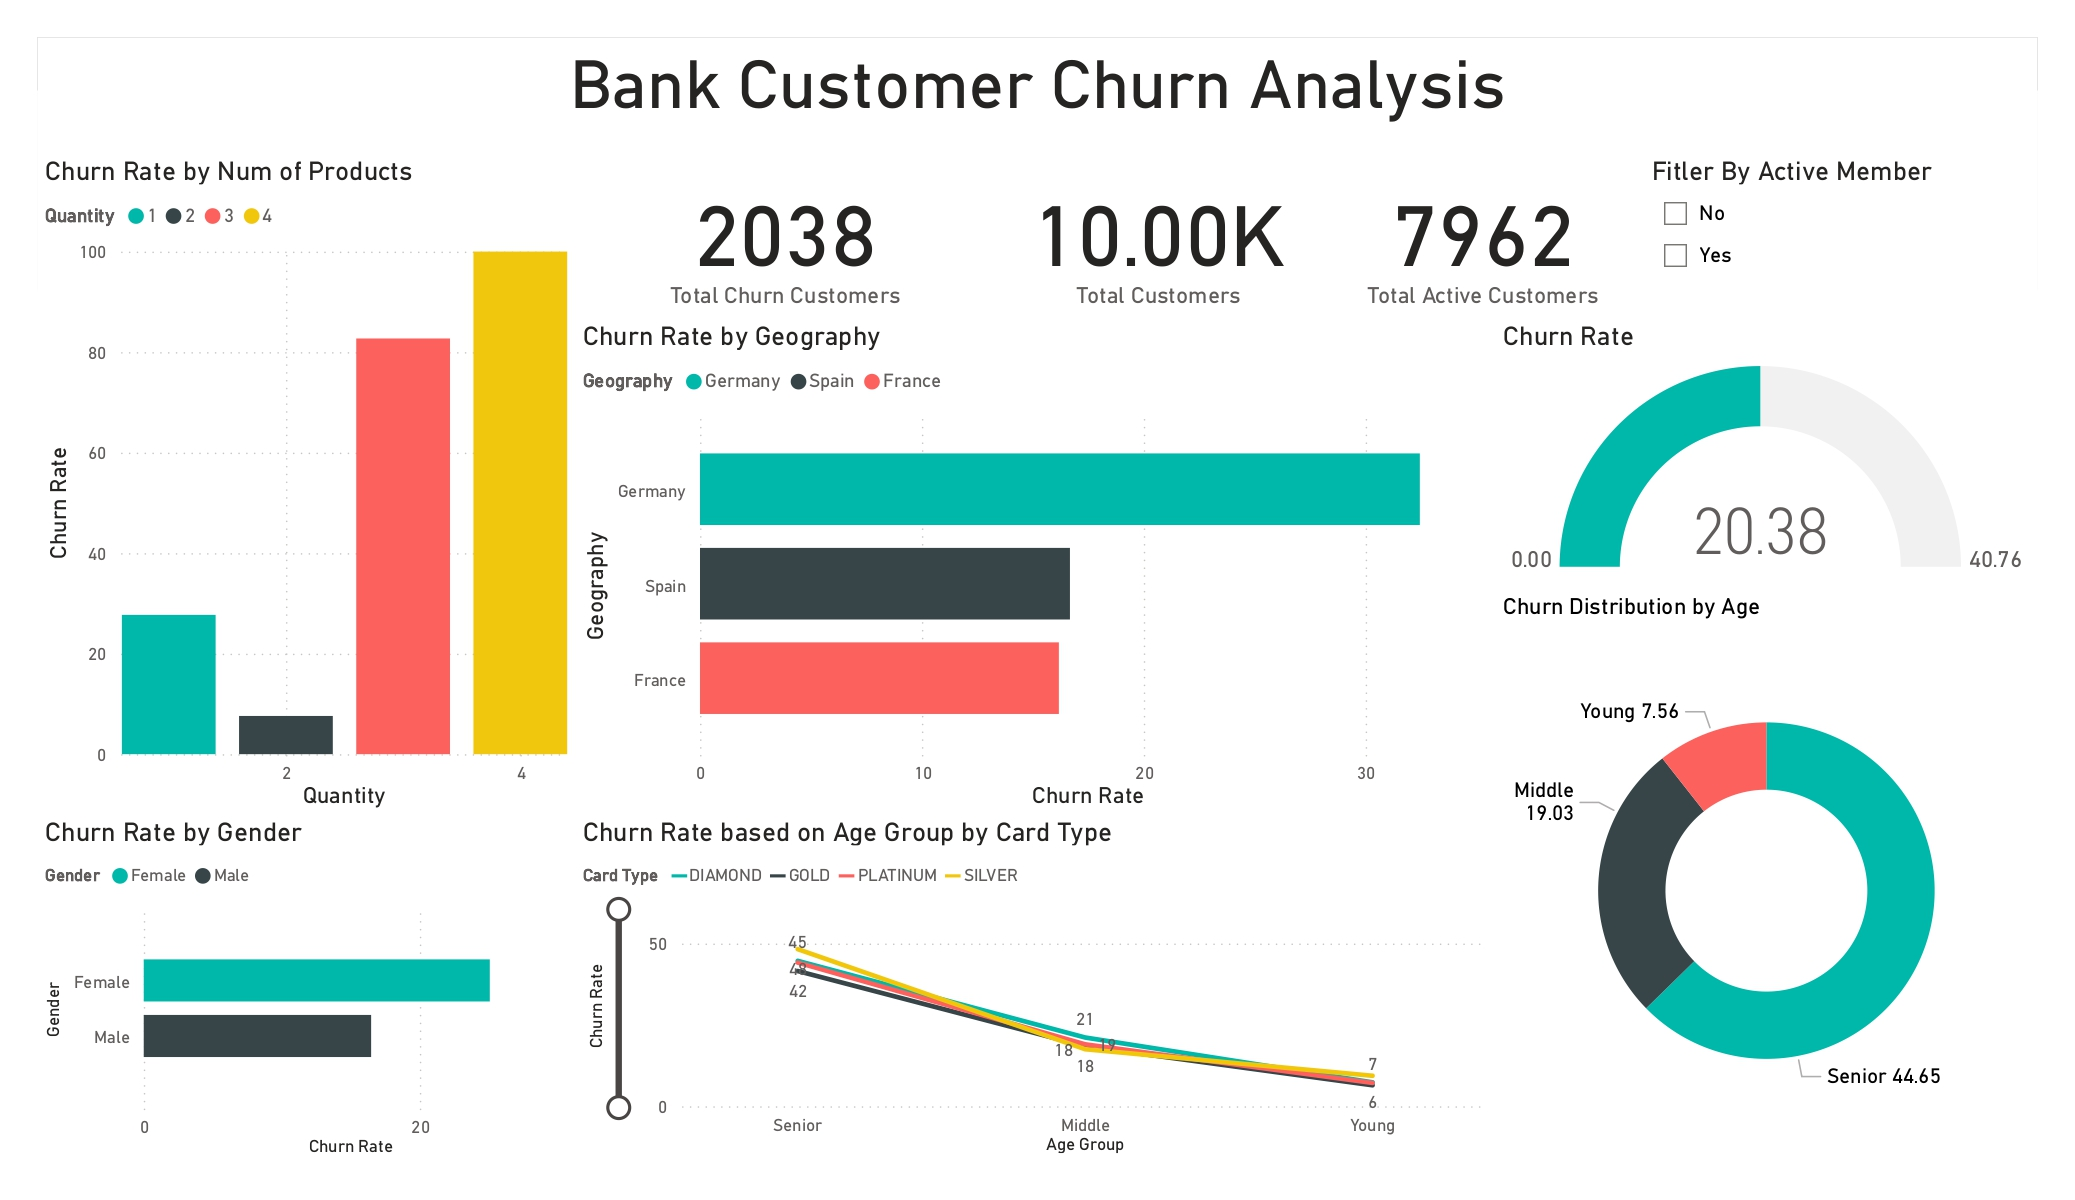

Layout of this report page (visuals, bound fields, positions):
{"tool":"powerbi","page":{"name":"Bank Customer Churn Analysis","canvas":[1280,720],"ordinal":0},"visuals":[{"type":"card","fields":{"Values":["CountNonNull(churn_dataset.IsActiveMember)"]},"box":[612.7,74.8,208.9,105.9],"z":0},{"type":"textbox","box":[0,0,1280.5,74.8],"z":1000},{"type":"card","fields":{"Values":["Sum(churn_dataset.Exited)"]},"box":[344.5,74.8,268.2,105.9],"z":2000},{"type":"barChart","title":"Churn Rate by Geography","fields":{"Y":["churn_dataset.churn_rate"],"Series":["churn_dataset.Geography"],"Category":["churn_dataset.Geography"]},"box":[344.5,180.7,588.7,317.6],"z":3000},{"type":"gauge","fields":{"Y":["churn_dataset.churn_rate"]},"box":[933.2,180.7,347.3,173.6],"z":4000},{"type":"barChart","title":"Churn Rate by Gender","fields":{"Category":["churn_dataset.Gender"],"Y":["churn_dataset.churn_rate"],"Series":["churn_dataset.Gender"]},"box":[0,498.4,344.5,221.6],"z":5000},{"type":"donutChart","title":"Churn Distribution by Age","fields":{"Y":["churn_dataset.churn_rate"],"Category":["churn_dataset.age_group"]},"box":[933.2,355.8,347.3,364.2],"z":6000},{"type":"columnChart","title":"Churn Rate by Num of Products","fields":{"Category":["churn_dataset.NumOfProducts"],"Y":["churn_dataset.churn_rate"],"Series":["churn_dataset.NumOfProducts"]},"box":[0,74.8,344.5,423.5],"z":7000},{"type":"lineChart","title":"Churn Rate based on Age Group by Card Type","fields":{"Y":["churn_dataset.churn_rate"],"Series":["churn_dataset.Card_Type"],"Category":["churn_dataset.age_group"]},"box":[344.5,498.4,588.7,220.2],"z":8000},{"type":"slicer","title":"Fitler By Geography, Gender, Age","fields":{"Values":["churn_dataset.Geography","churn_dataset.Gender","churn_dataset.age_group"]},"box":[1050.4,74.8,230.1,105.9],"z":9000},{"type":"card","fields":{"Values":["churn_dataset.Active_Customers"]},"box":[821.6,74.8,228.7,105.9],"z":10000}]}

Visuals, with their boxes in screenshot pixels (x1, y1, x2, y2):
card - CountNonNull(churn_dataset.IsActiveMember): (left=995, top=154, right=1321, bottom=320)
textbox: (left=38, top=38, right=2038, bottom=154)
card - Sum(churn_dataset.Exited): (left=576, top=154, right=995, bottom=320)
"Churn Rate by Geography" barChart: (left=576, top=320, right=1496, bottom=816)
gauge - churn_dataset.churn_rate: (left=1496, top=320, right=2038, bottom=591)
"Churn Rate by Gender" barChart: (left=38, top=816, right=576, bottom=1162)
"Churn Distribution by Age" donutChart: (left=1496, top=593, right=2038, bottom=1162)
"Churn Rate by Num of Products" columnChart: (left=38, top=154, right=576, bottom=816)
"Churn Rate based on Age Group by Card Type" lineChart: (left=576, top=816, right=1496, bottom=1160)
"Fitler By Geography, Gender, Age" slicer: (left=1679, top=154, right=2038, bottom=320)
card - churn_dataset.Active_Customers: (left=1321, top=154, right=1679, bottom=320)
